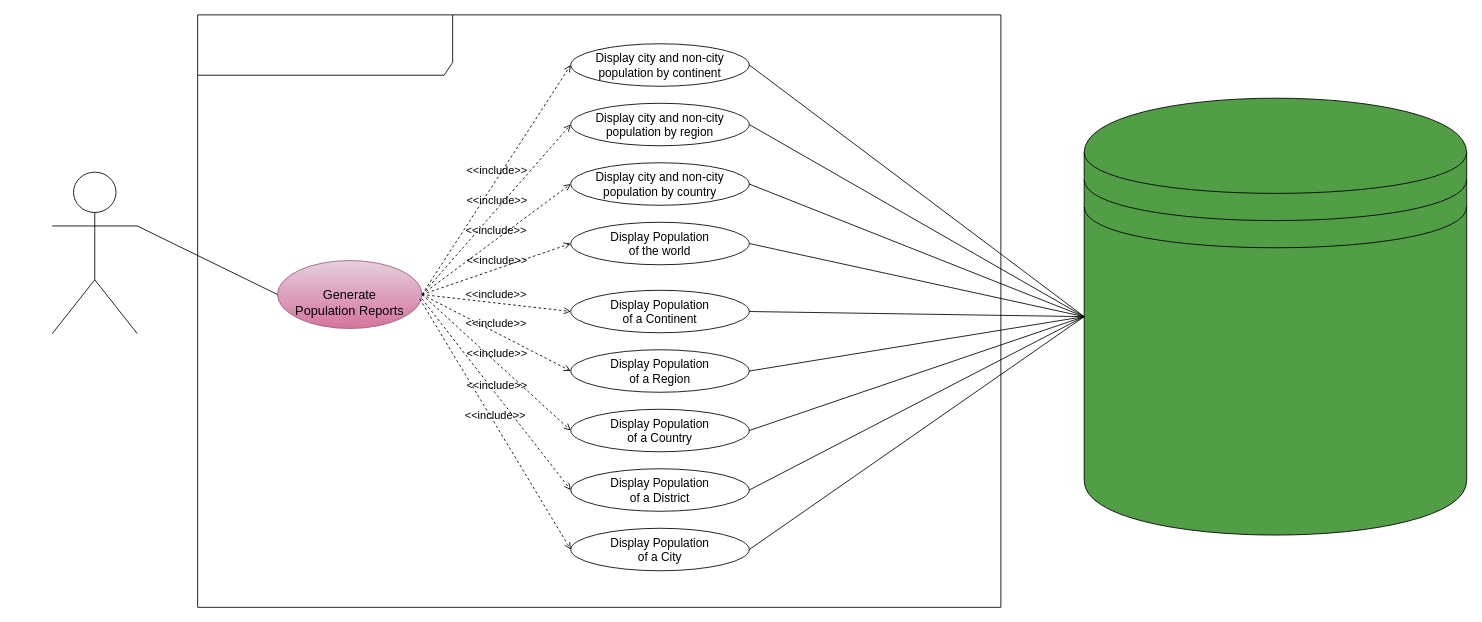
Some shapes in this 1482 by 622 pixel diagram are drawn without their labels. The shapes that lost their labels are listed below. From the top down, each one's box as (x1, y1, x2, y2) in pixels, then its label:
(51, 171, 137, 334): Report Analyst
(197, 14, 1001, 607): World Population System
(1083, 97, 1467, 535): World Population DB
